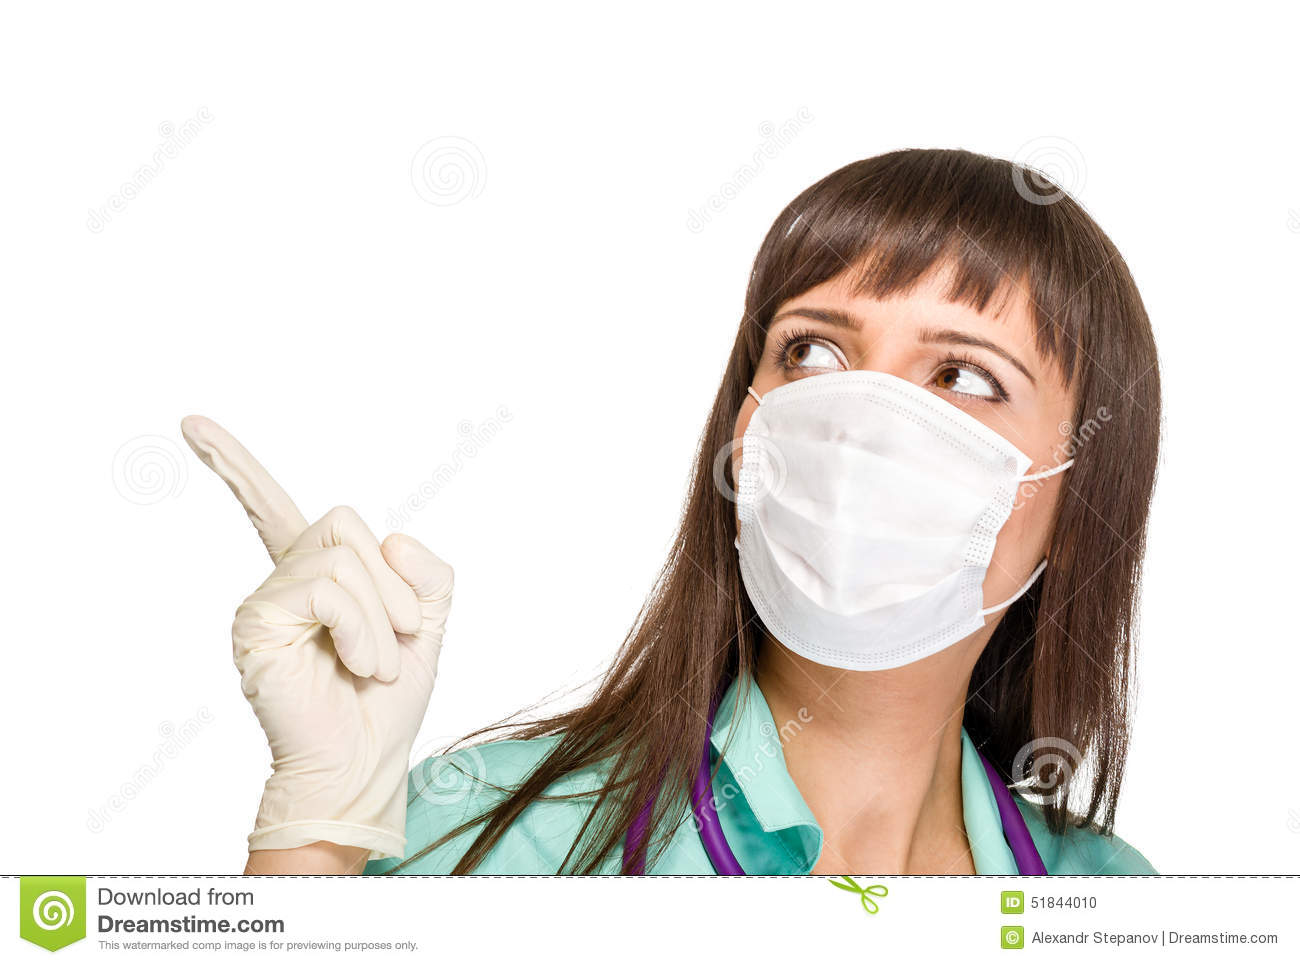mask: (727, 374, 1031, 664)
